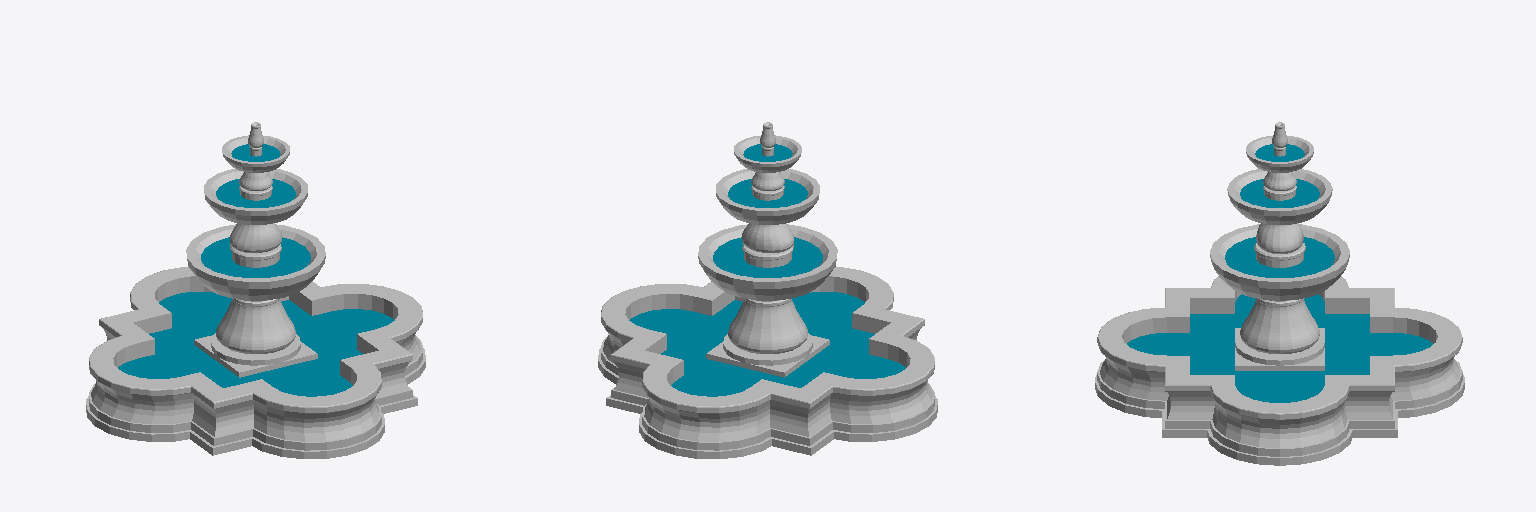
3 renders of one model, left to right at view 1: azimuth 30°, elevation 25°; view 2: azimuth 150°, elevation 25°; view 3: azimuth 270°, elevation 25°, orthographic.
Parts seen in each view (by area): view 1: Fountain_FountainTexture_0, Water_WaterTexture_0; view 2: Fountain_FountainTexture_0, Water_WaterTexture_0; view 3: Fountain_FountainTexture_0, Water_WaterTexture_0.
Part boxes in pixels (x1,y1,x2,y2): Fountain_FountainTexture_0: (86,122,425,458); Water_WaterTexture_0: (118,144,394,396); Fountain_FountainTexture_0: (598,122,937,458); Water_WaterTexture_0: (629,144,905,396); Fountain_FountainTexture_0: (1095,122,1464,465); Water_WaterTexture_0: (1127,144,1432,402).
Bounding box in the file's own units: 822 × 643 × 822.
2 materials, 1 textured.